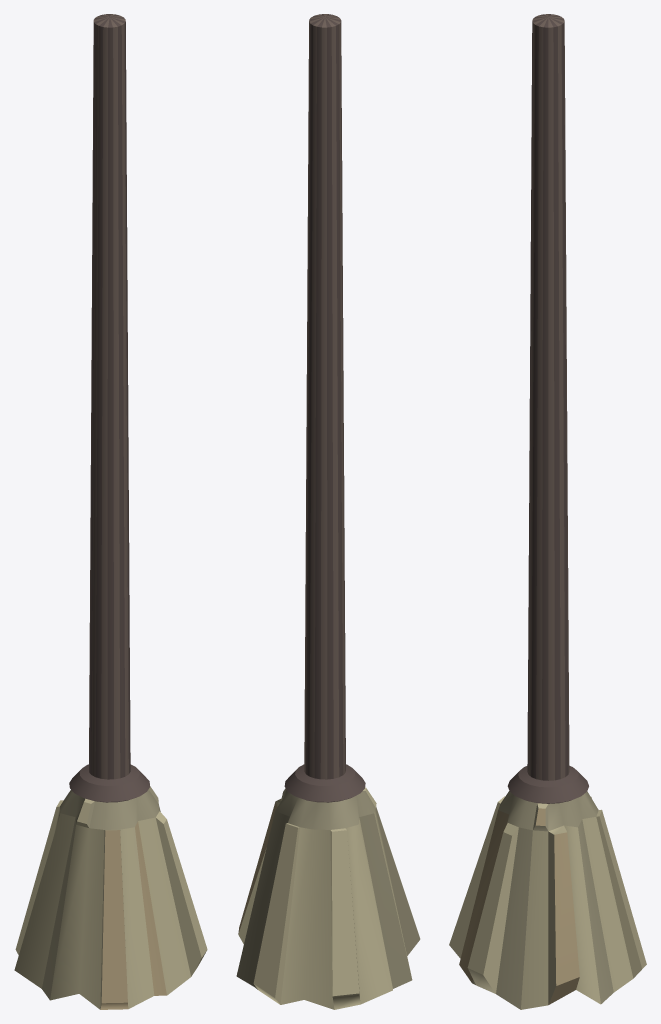
Rendered from broom.fbx.
3 renders of one model, left to right at view 1: azimuth 30°, elevation 25°; view 2: azimuth 150°, elevation 25°; view 3: azimuth 270°, elevation 25°, orthographic.
Parts seen in each view (by area): view 1: broom; view 2: broom; view 3: broom.
Part boxes in pixels (<box>): broom: <box>14,14,207,1009</box>; broom: <box>236,14,420,1009</box>; broom: <box>449,14,646,1009</box>.
Size of the model in its own units: 1.13 by 6.28 by 1.18.
